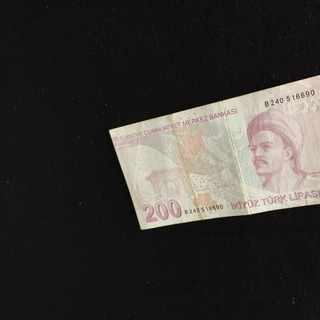200TLBack: (108, 62, 320, 230)
